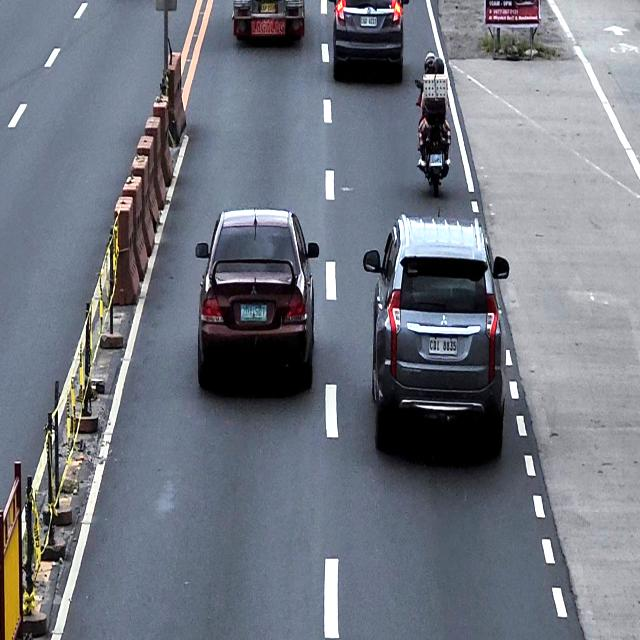Car: (361, 212, 512, 475), (195, 204, 321, 398), (331, 0, 412, 91)
Jeep: (230, 0, 309, 48)
License-Plate: (427, 335, 458, 356), (240, 302, 268, 324), (358, 13, 379, 28), (258, 3, 278, 16), (428, 152, 443, 167)
Motorcycle: (415, 74, 451, 194)
